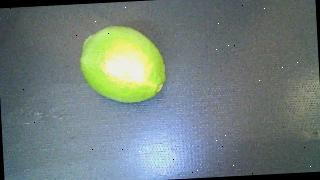EXPORTACION: (79, 24, 167, 105)
